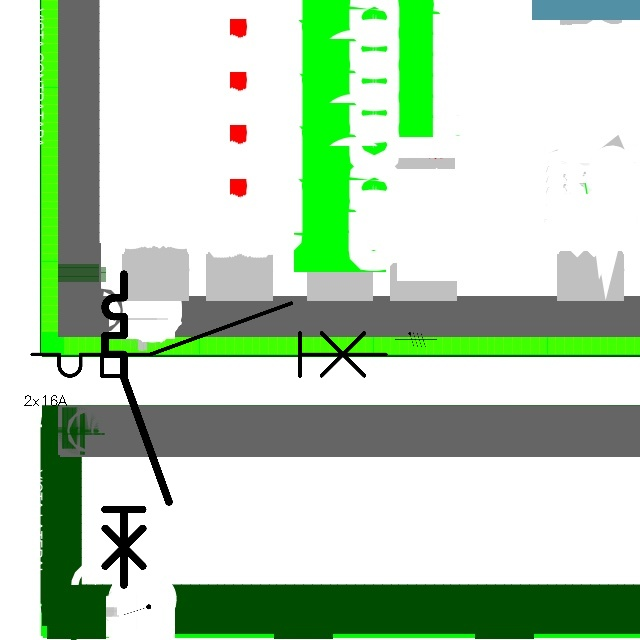interruptor_termomagnetico: (23, 294, 395, 385), (97, 266, 177, 593)
